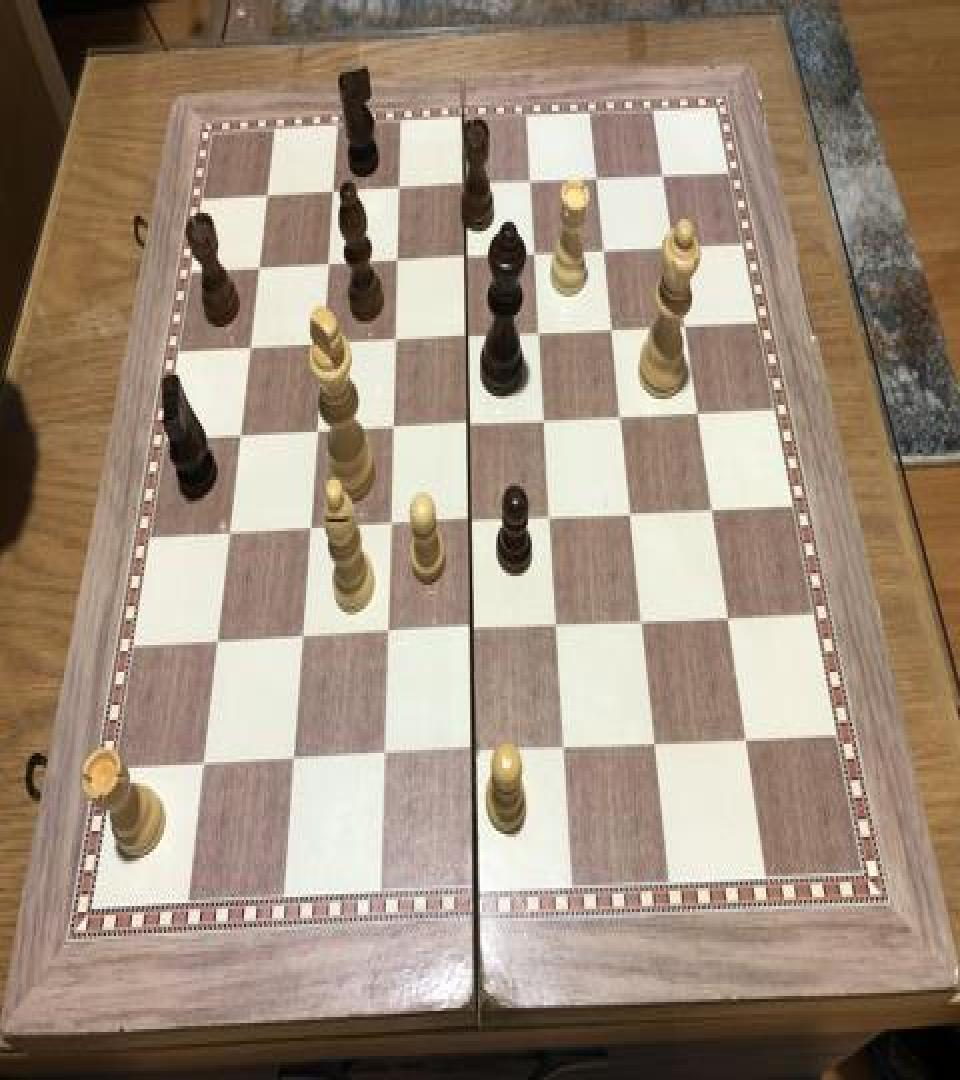xcorner: (292, 622, 316, 659), (652, 154, 676, 190), (586, 159, 610, 195), (520, 164, 544, 200), (454, 168, 478, 204), (389, 171, 413, 207), (323, 176, 347, 212), (258, 180, 282, 216), (662, 226, 686, 262), (593, 231, 617, 267), (524, 236, 548, 272), (455, 240, 479, 276), (387, 244, 411, 280), (318, 248, 342, 284), (250, 252, 274, 288), (674, 306, 698, 342), (601, 310, 625, 346), (529, 315, 553, 351), (457, 320, 481, 356), (385, 322, 409, 358), (313, 327, 337, 363), (241, 332, 265, 368), (687, 393, 711, 429), (610, 398, 634, 434), (534, 402, 558, 438), (458, 406, 482, 442), (382, 411, 406, 447), (307, 416, 331, 452), (231, 420, 255, 456), (701, 490, 725, 526), (620, 495, 644, 531), (540, 500, 564, 536), (459, 504, 483, 540), (379, 508, 403, 544), (300, 513, 324, 549), (220, 518, 244, 554), (717, 598, 741, 634), (632, 603, 656, 639), (546, 609, 570, 645), (461, 614, 485, 650), (376, 618, 400, 654), (208, 627, 232, 663), (735, 722, 759, 758), (644, 726, 668, 762), (554, 730, 578, 766), (463, 735, 487, 771), (373, 741, 397, 777), (283, 746, 307, 782), (194, 750, 218, 786)
